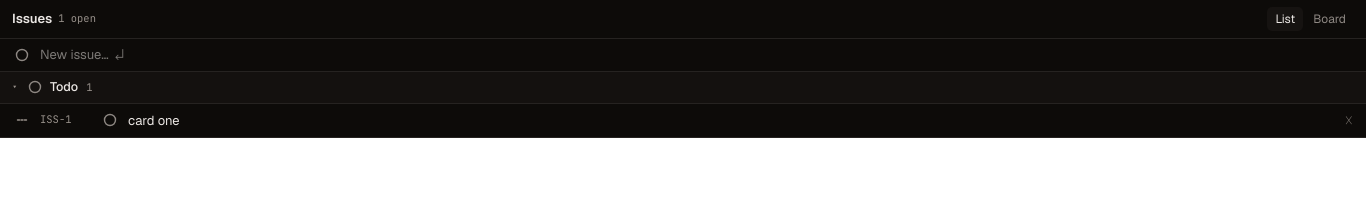
Test: the widget (the serve knows the issue kind: true) › shows the same issues as a board, and dragging a card to another column changes its status
Later steps or results of the test are not shown.
Expected: the element with test id "issue-row" is shown, [0,104,1365,138]
What coordinates should you click on to do the following:
click the tab with test id "issues-view-board"
I would click on:
 (1330, 19)
Its box is [1305,7,1354,31].
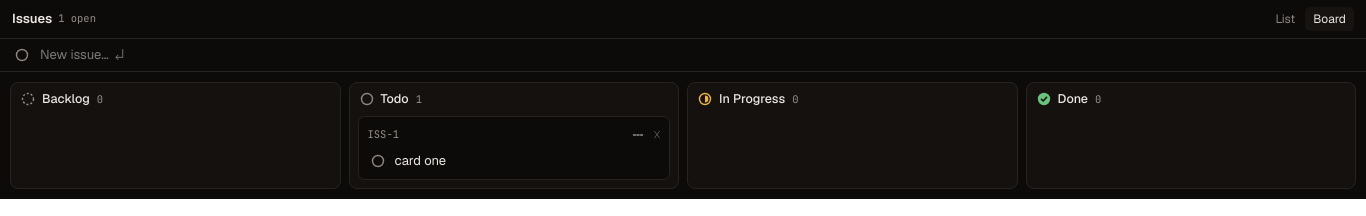
Expected: the text "card one" is shown, [394,152,446,169]
Expected: the element with test id "issues-col-todo" is shown, [348,82,679,189]
Expected: the element with test id "issues-col-done" is shown, [1026,82,1356,189]
